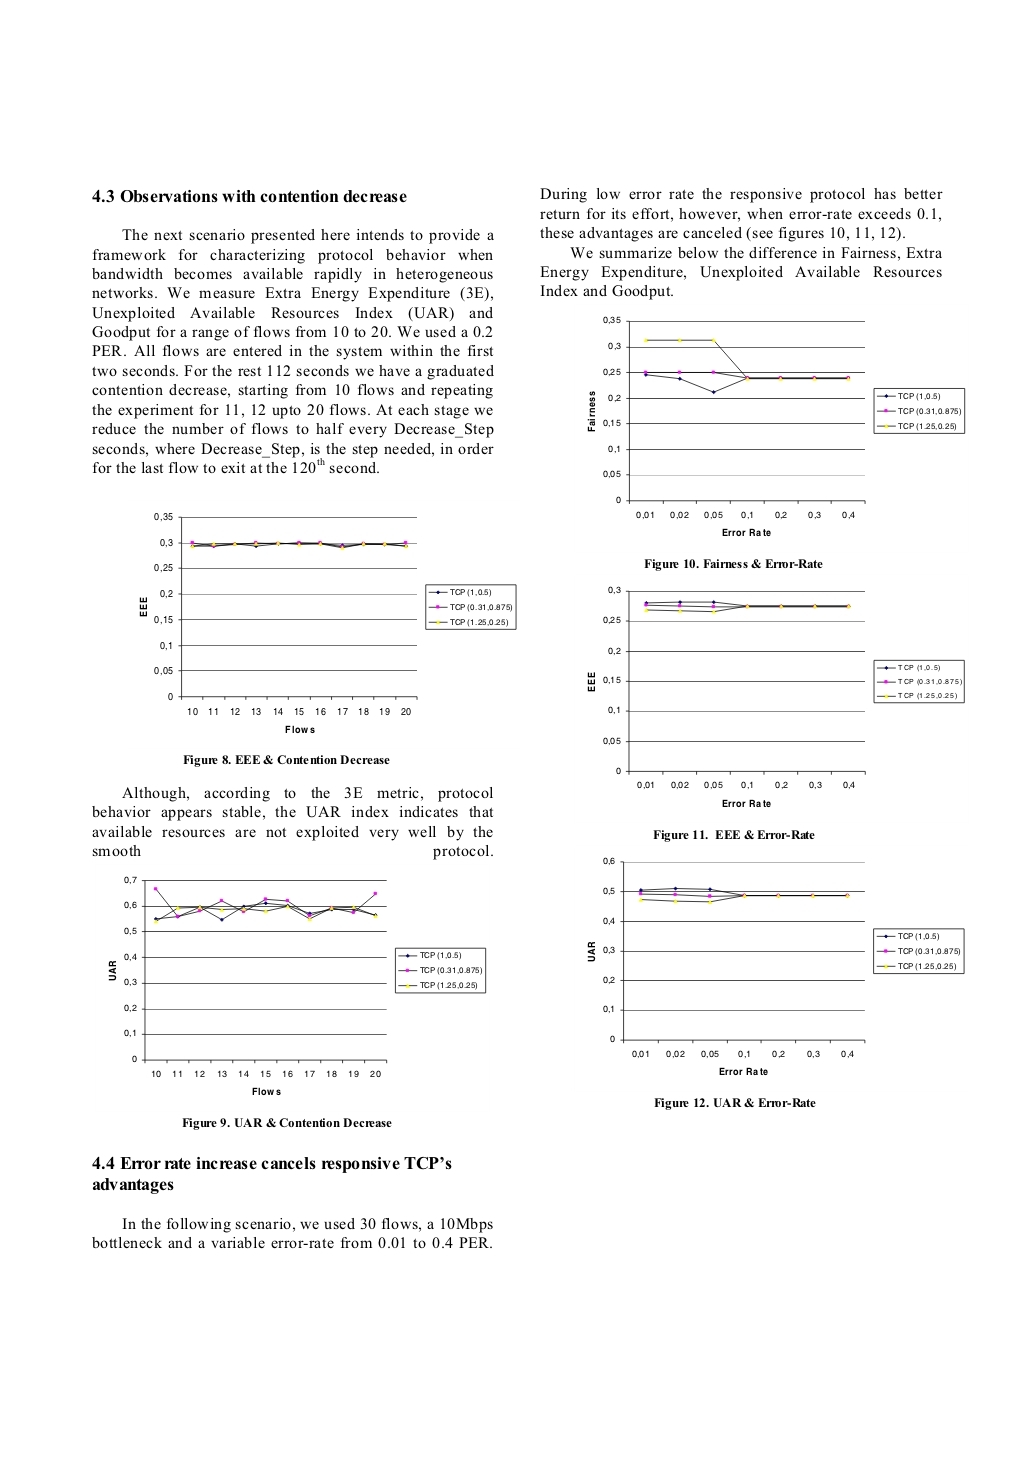figure: (587, 316, 965, 537), (587, 586, 964, 806), (108, 876, 486, 1095), (139, 513, 515, 733), (587, 857, 964, 1075)
